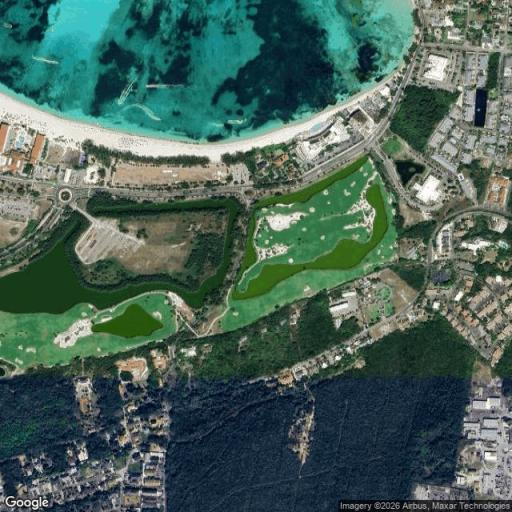ship: (123, 102, 161, 121), (117, 79, 135, 105), (146, 84, 195, 89), (229, 120, 246, 125)
